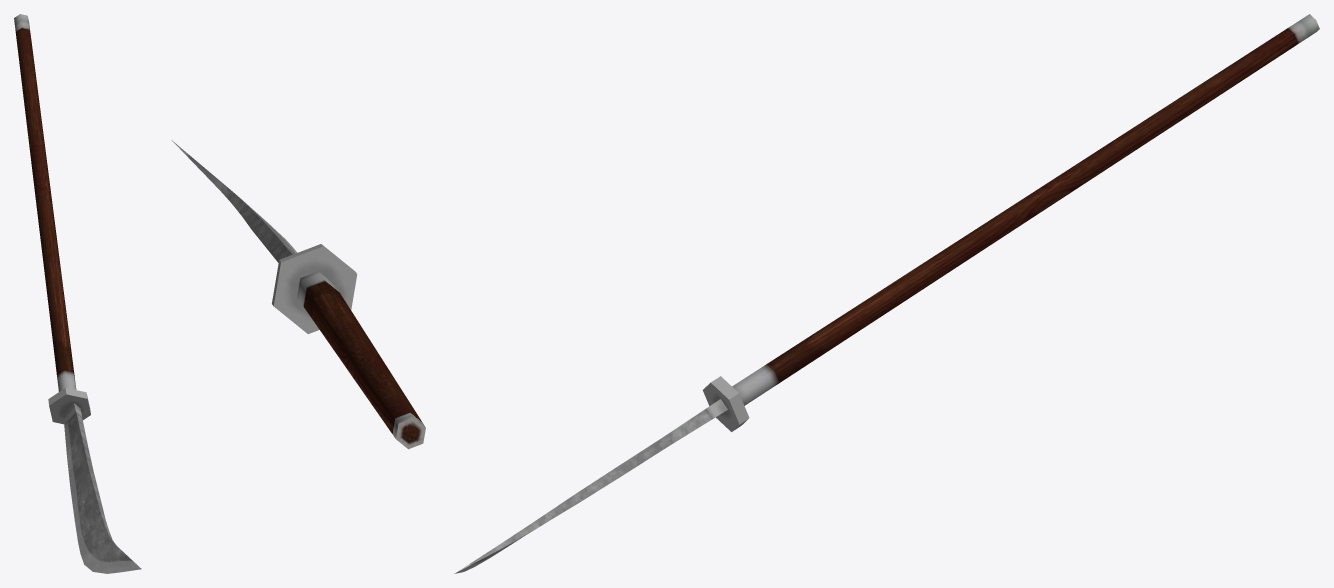
Rendered from rider-weapon-slice-copperweapons.glb.
3 renders of one model, left to right at view 1: azimuth 30°, elevation 25°; view 2: azimuth 210°, elevation 25°; view 3: azimuth 330°, elevation 25°, orthographic. The views are drawn at different scales.
Bounding box in the file's own units: 1.04 × 0.7947 × 2.43.
Materials: 1 (1 with a texture image).
